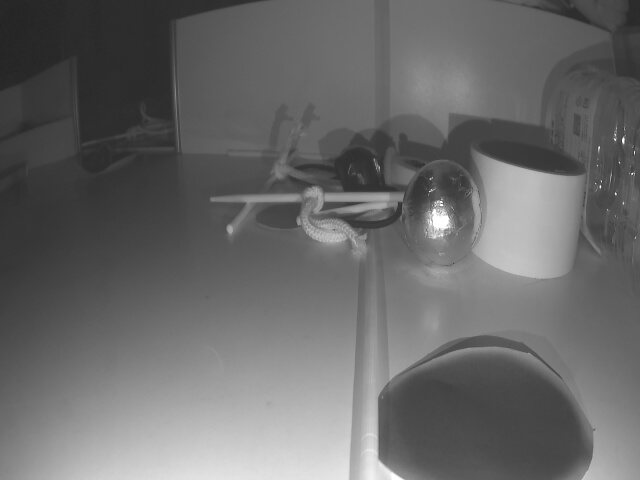Live: (407, 157, 481, 261)
